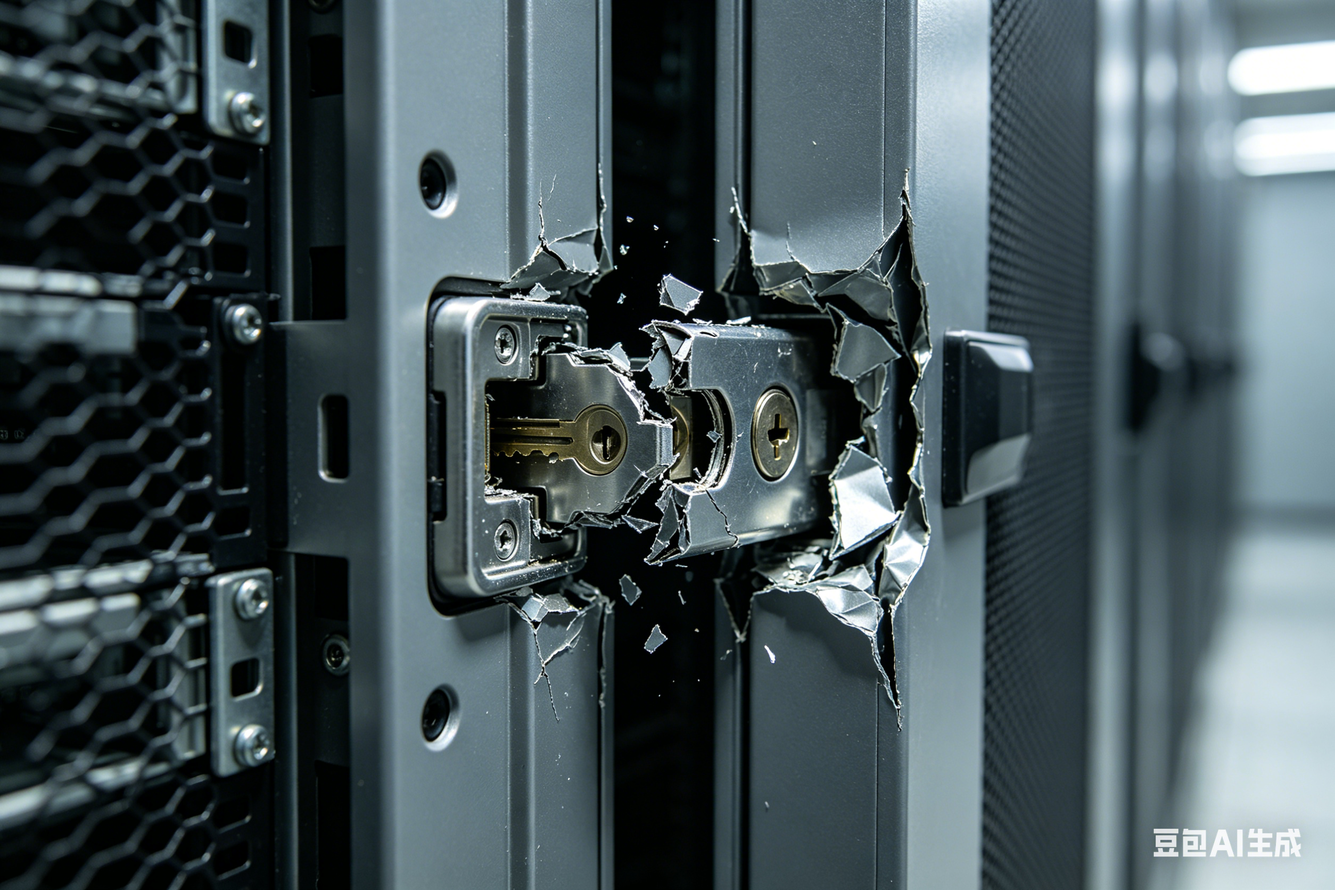BadLock: (483, 312, 927, 563)
